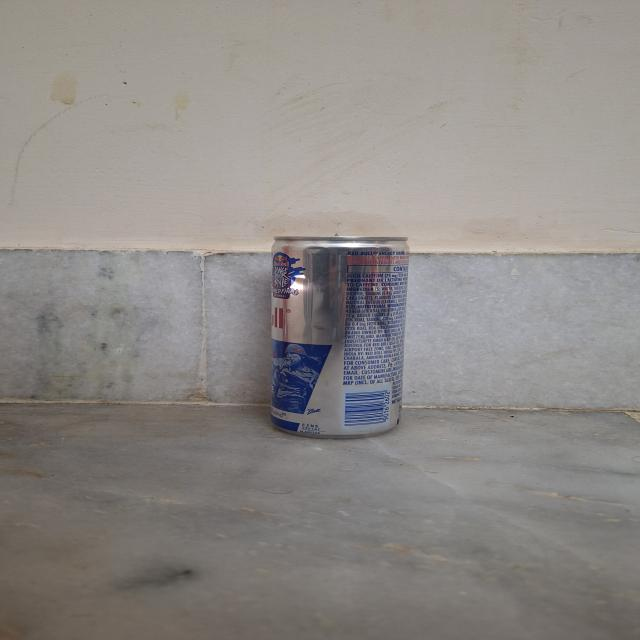Redbull DanceYourStyle: (256, 225, 421, 442)
